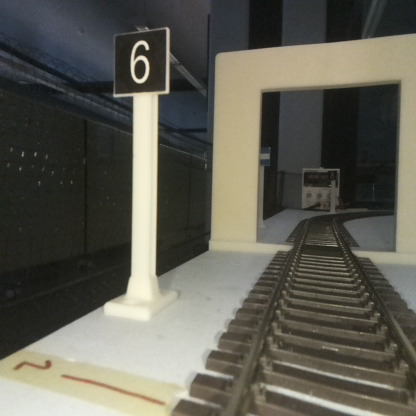black-info-6: (115, 28, 166, 313)
start: (258, 147, 270, 227)
